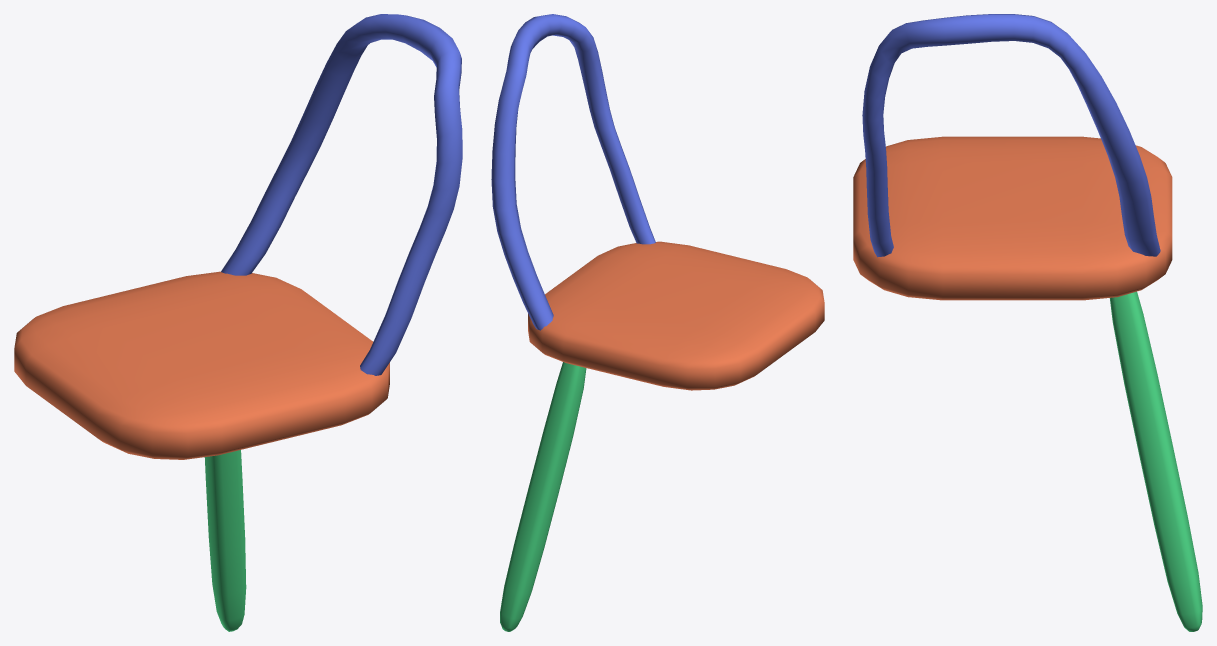
File: Silla3 Redondita.fbx
3 renders of one model, left to right at view 1: azimuth 30°, elevation 25°; view 2: azimuth 150°, elevation 25°; view 3: azimuth 270°, elevation 25°, orthographic. The views are drawn at different scales.
Parts seen in each view (by area): view 1: Cube.011, Plane, Cube.012; view 2: Cube.011, Plane, Cube.012; view 3: Cube.011, Plane, Cube.012.
Boxes of the visible parts, x1,y1,x2,y2 form: Cube.011: (14,271,389,459); Plane: (221,14,462,375); Cube.012: (204,450,246,631); Cube.011: (528,241,824,390); Plane: (491,14,655,330); Cube.012: (500,362,586,631); Cube.011: (853,136,1172,300); Plane: (862,14,1160,257); Cube.012: (1109,291,1202,631).
Size of the model in its own units: 44.77 by 79.46 by 38.39.
